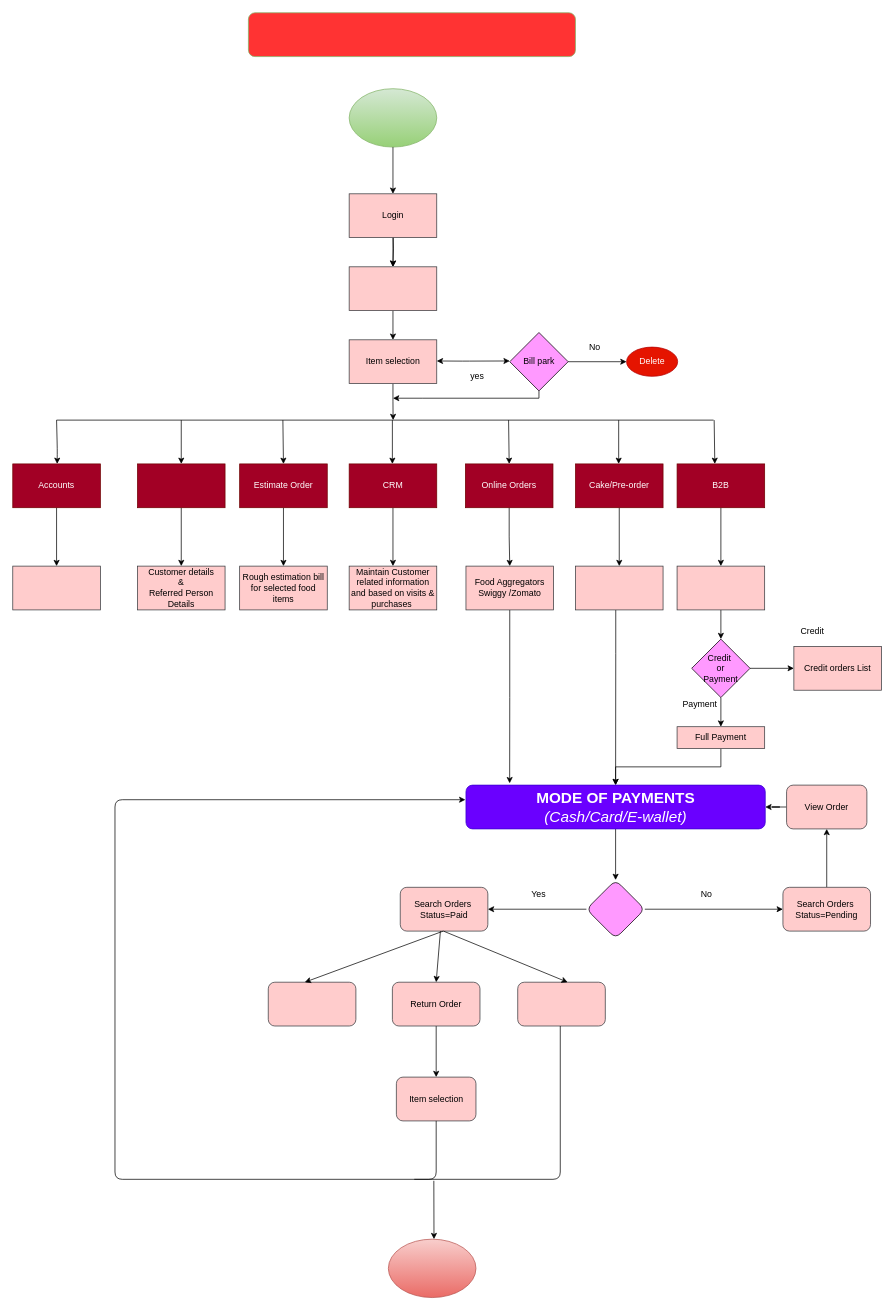
The diagram is 894 pixels wide and 1310 high, and some of its shapes have lost their labels. The shapes that lost their labels are listed below. From the top down, each one's box as (x1, y1, x2, y2) in pixels, then its label:
(248, 12, 575, 57): In-Dine POS
(348, 88, 437, 147): Start
(348, 266, 437, 311): Day-in
(137, 463, 225, 508): Complimentory Bill
(12, 565, 100, 610): Maintaining Expenditure, Cashouts for reporting purposes
(575, 565, 663, 610): Partial Payments
(676, 565, 765, 610): Credit orders
(586, 879, 645, 938): Is Full Payment Done
(268, 981, 356, 1026): Reprint the Tax Invoice
(517, 981, 605, 1026): Edit Payment
(388, 1238, 476, 1298): End
